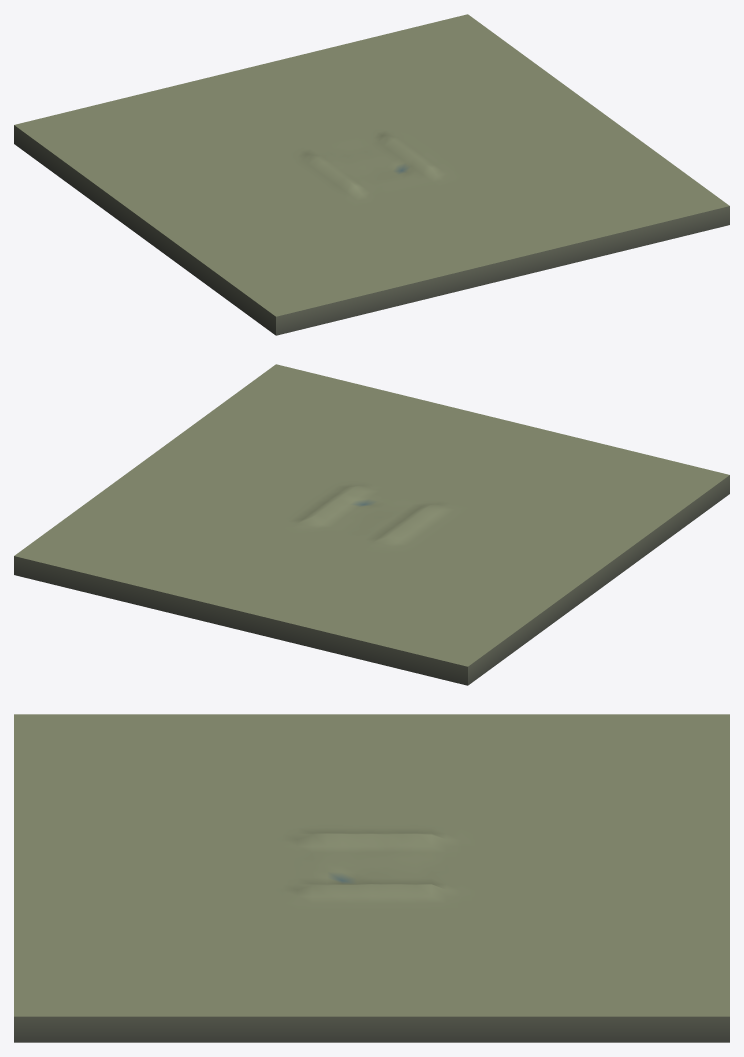
Rendered from far.glb.
3 renders of one model, top to bottom at view 1: azimuth 30°, elevation 25°; view 2: azimuth 150°, elevation 25°; view 3: azimuth 270°, elevation 25°, orthographic. The views are drawn at different scales.
Parts seen in each view (by area): view 1: far-proxy; view 2: far-proxy; view 3: far-proxy.
Part boxes in pixels (x1,y1,x2,y2): far-proxy: [14, 14, 729, 335]; far-proxy: [14, 364, 729, 685]; far-proxy: [14, 714, 729, 1042].
Bounding box in the file's own units: 500 × 24.99 × 500.
